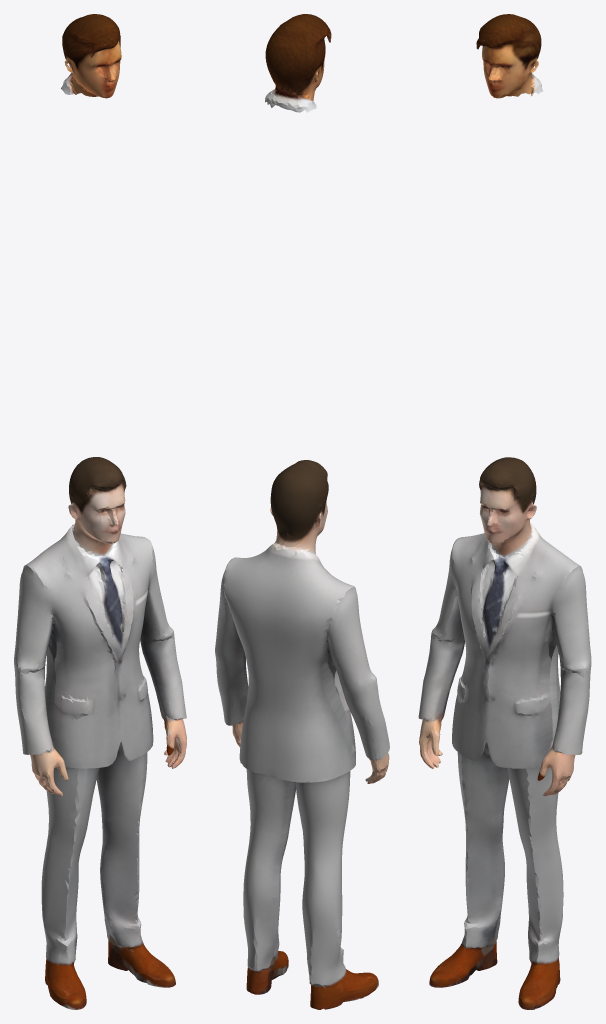
File: spring_faced.glb
The picture shows the model from 3 angles, left to right: view 1: azimuth 30°, elevation 25°; view 2: azimuth 150°, elevation 25°; view 3: azimuth 330°, elevation 25°; orthographic projection.
Visible parts, largest first — view 1: spring_upgraded, head_spring_faced; view 2: spring_upgraded, head_spring_faced; view 3: spring_upgraded, head_spring_faced.
Part boxes in pixels (<box>): spring_upgraded: <box>14,457,186,1009</box>; head_spring_faced: <box>61,14,121,98</box>; spring_upgraded: <box>215,460,389,1009</box>; head_spring_faced: <box>265,14,331,112</box>; spring_upgraded: <box>418,457,591,1009</box>; head_spring_faced: <box>476,14,542,98</box>.
Bounding box in the file's own units: 0.6102 × 3.53 × 0.3656.
2 materials, 2 textured.
